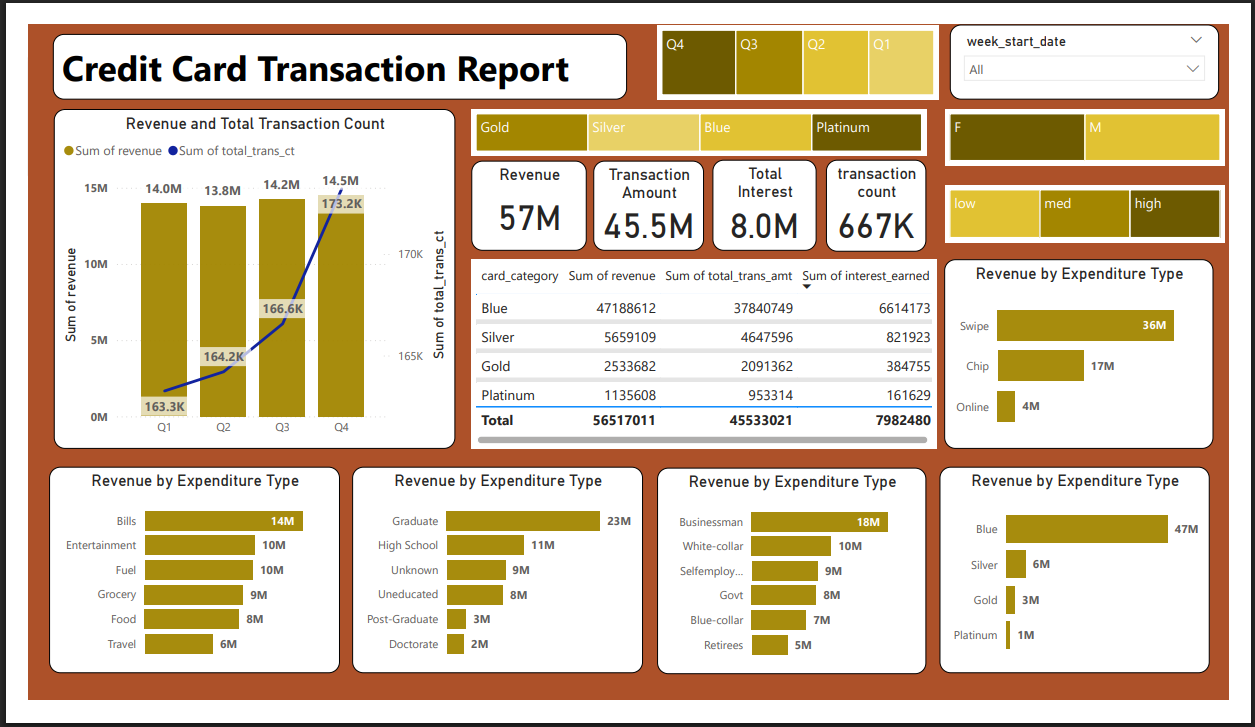

What the dashboard file says about the page in this screenshot:
{"tool":"powerbi","page":{"name":"cc_transaction","canvas":[1280,720],"ordinal":1},"visuals":[{"type":"textbox","box":[27.4,9.6,612,70],"z":0},{"type":"lineStackedColumnComboChart","title":"Revenue and Total Transaction Count","fields":{"Category":["public cc_detail.qtr"],"Y":["Sum(public cc_detail.revenue)"],"Y2":["Sum(public cc_detail.total_trans_ct)"]},"box":[27.7,90.5,428.3,361.9],"z":1000},{"type":"barChart","title":"Revenue by Expenditure Type","fields":{"Y":["Sum(public cc_detail.revenue)"],"Category":["public cc_detail.exp_type"]},"box":[22.9,470.5,310.1,220.8],"z":2000},{"type":"barChart","title":"Revenue by Expenditure Type","fields":{"Category":["public cust_detail.education_level"],"Y":["Sum(public cc_detail.revenue)"]},"box":[346.2,470.5,310.1,220.8],"z":3000},{"type":"barChart","title":"Revenue by Expenditure Type","fields":{"Category":["public cust_detail.customer_job"],"Y":["Sum(public cc_detail.revenue)"]},"box":[670.8,471.7,287.1,220.8],"z":4000},{"type":"barChart","title":"Revenue by Expenditure Type","fields":{"Category":["public cc_detail.card_category"],"Y":["Sum(public cc_detail.revenue)"]},"box":[972.4,470.5,287.1,220.8],"z":5000},{"type":"barChart","title":"Revenue by Expenditure Type","fields":{"Category":["public cc_detail.use_chip"],"Y":["Sum(public cc_detail.revenue)"]},"box":[977.2,249.7,287.1,202.7],"z":6000},{"type":"tableEx","fields":{"Values":["public cc_detail.card_category","Sum(public cc_detail.revenue)","Sum(public cc_detail.total_trans_amt)","Sum(public cc_detail.interest_earned)"]},"box":[472.9,249.7,495.8,202.7],"z":7000},{"type":"card","title":"Revenue","fields":{"Values":["Sum(public cc_detail.revenue)"]},"box":[472.9,144.8,123.1,96.5],"z":8000},{"type":"card","title":"Transaction Amount","fields":{"Values":["Sum(public cc_detail.total_trans_amt)"]},"box":[603.2,144.8,118.2,96.5],"z":9000},{"type":"card","title":"Total Interest","fields":{"Values":["Sum(public cc_detail.interest_earned)"]},"box":[729.9,143.6,111,97.7],"z":10000},{"type":"card","title":"transaction count","fields":{"Values":["Sum(public cc_detail.total_trans_ct)"]},"box":[850.5,143.6,107.4,98.9],"z":11000},{"type":"slicer","fields":{"Values":["public cc_detail.week_start_date"]},"box":[983.2,0,287.1,79.6],"z":12000},{"type":"treemap","fields":{"Group":["public cc_detail.qtr"],"Values":["Avg(public cc_detail.client_num)"]},"box":[670.8,1.2,300.4,78.4],"z":13000},{"type":"treemap","fields":{"Group":["public cust_detail.gender"],"Values":["Avg(public cc_detail.client_num)"]},"box":[978.4,90.5,298,59.1],"z":14000},{"type":"treemap","fields":{"Values":["Avg(public cc_detail.client_num)"],"Details":["public cc_detail.card_category"]},"box":[472.9,90.5,485,49.5],"z":15000},{"type":"treemap","fields":{"Group":["public cust_detail.income_group"],"Values":["Avg(public cc_detail.client_num)"]},"box":[978.4,171.3,298,60.3],"z":16000}]}

Visuals, with their boxes in screenshot pixels (x1, y1, x2, y2), scaled from the page's 1280x720 canvas onto the 1255x727 screenshot:
textbox: Rect(27, 10, 627, 80)
"Revenue and Total Transaction Count" lineStackedColumnComboChart: Rect(27, 91, 447, 457)
"Revenue by Expenditure Type" barChart: Rect(22, 475, 326, 698)
"Revenue by Expenditure Type" barChart: Rect(339, 475, 643, 698)
"Revenue by Expenditure Type" barChart: Rect(658, 476, 939, 699)
"Revenue by Expenditure Type" barChart: Rect(953, 475, 1235, 698)
"Revenue by Expenditure Type" barChart: Rect(958, 252, 1240, 457)
tableEx - public cc_detail.card_category x Sum(public cc_detail.revenue): Rect(464, 252, 950, 457)
"Revenue" card: Rect(464, 146, 584, 244)
"Transaction Amount" card: Rect(591, 146, 707, 244)
"Total Interest" card: Rect(716, 145, 824, 244)
"transaction count" card: Rect(834, 145, 939, 245)
slicer - public cc_detail.week_start_date: Rect(964, 0, 1245, 80)
treemap - public cc_detail.qtr x Avg(public cc_detail.client_num): Rect(658, 1, 952, 80)
treemap - public cust_detail.gender x Avg(public cc_detail.client_num): Rect(959, 91, 1251, 151)
treemap - Avg(public cc_detail.client_num) x public cc_detail.card_category: Rect(464, 91, 939, 141)
treemap - public cust_detail.income_group x Avg(public cc_detail.client_num): Rect(959, 173, 1251, 234)
